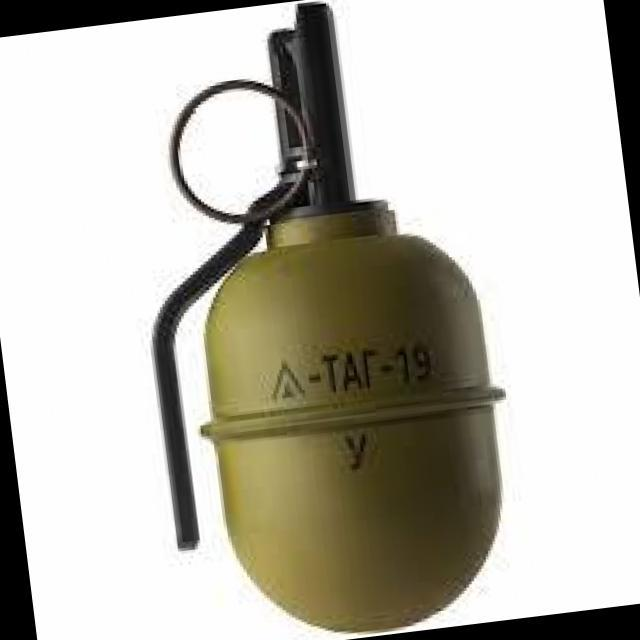grenade: (108, 0, 535, 640)
